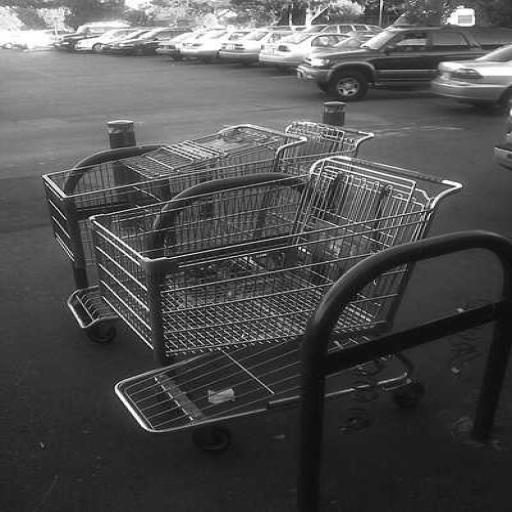shopping_cart: (84, 154, 460, 454), (38, 119, 308, 341), (284, 113, 374, 158)
